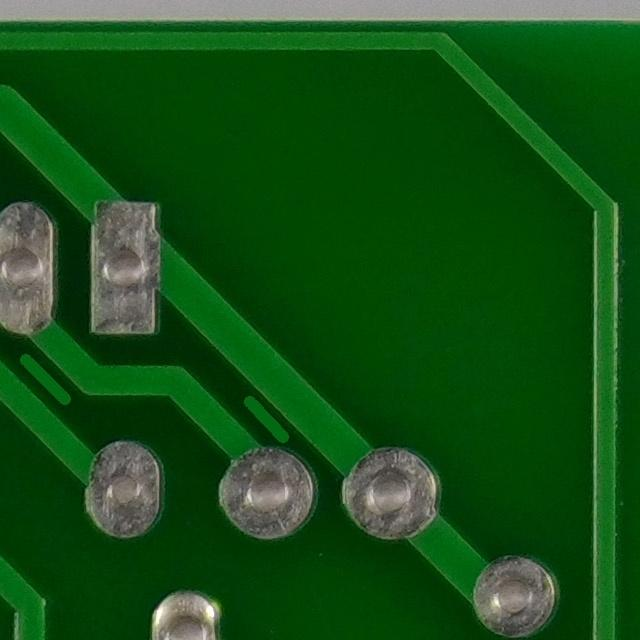spurious_copper: (9, 342, 78, 413), (234, 375, 296, 452)
